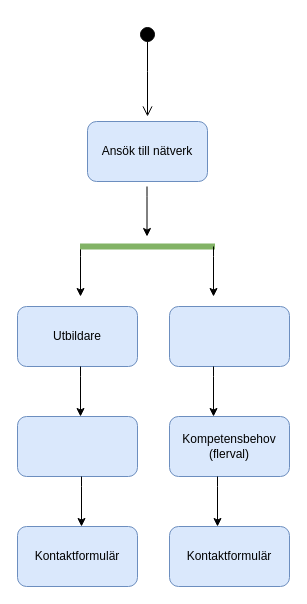
Some shapes in this 307 by 604 pixel diagram are drawn without their labels. The shapes that lost their labels are listed below. From the top down, each one's centre as x and y in pixels, then its label:
At pixel 229 336: "Skola".
At pixel 77 446: "Specialområden".
